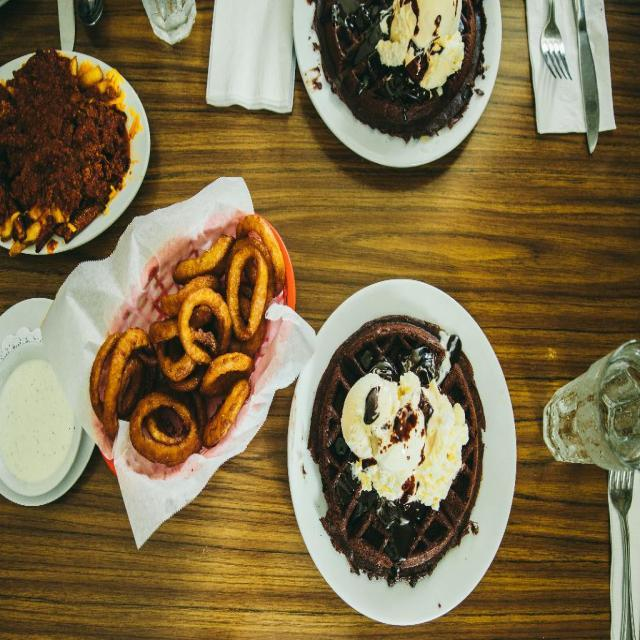Waffle: (312, 314, 487, 604), (313, 0, 488, 141)
